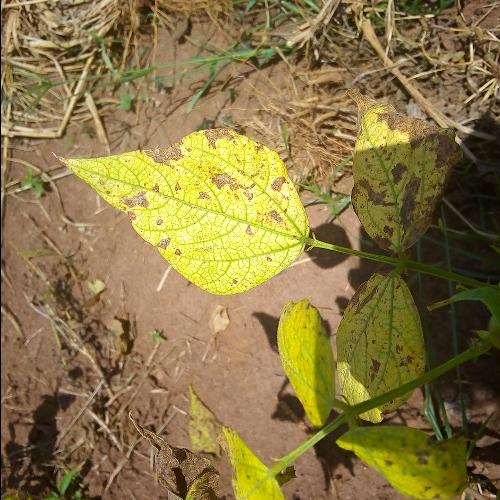hawar: (52, 112, 292, 298), (203, 163, 255, 202), (143, 134, 198, 167), (110, 188, 162, 222), (264, 172, 294, 228), (154, 233, 193, 256)
